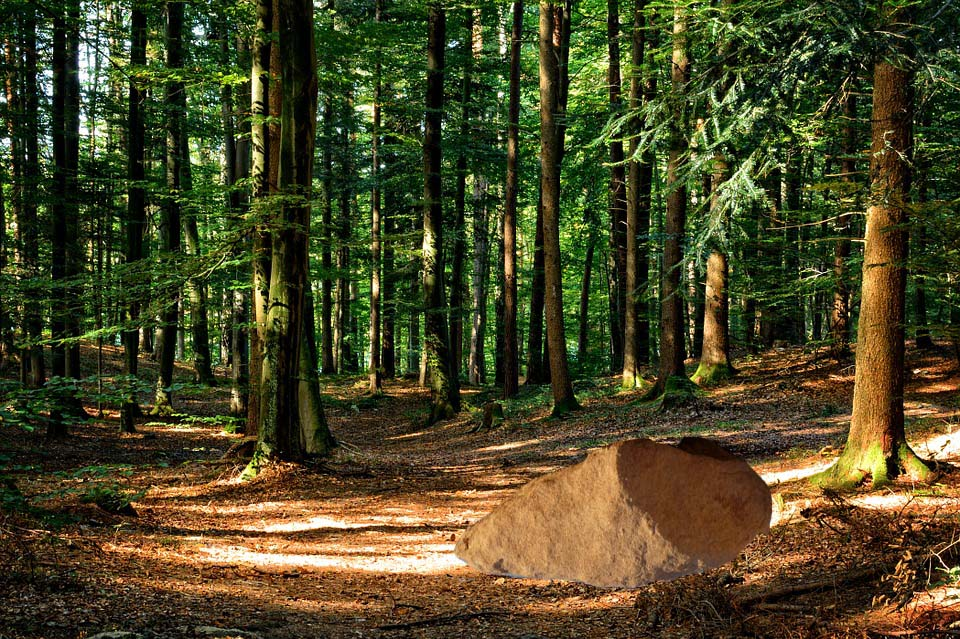Rocks: (452, 437, 773, 589)
